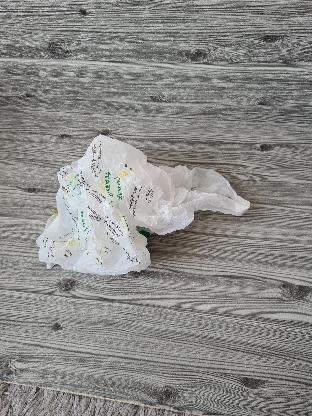Plastic Bag: (28, 130, 250, 284)
